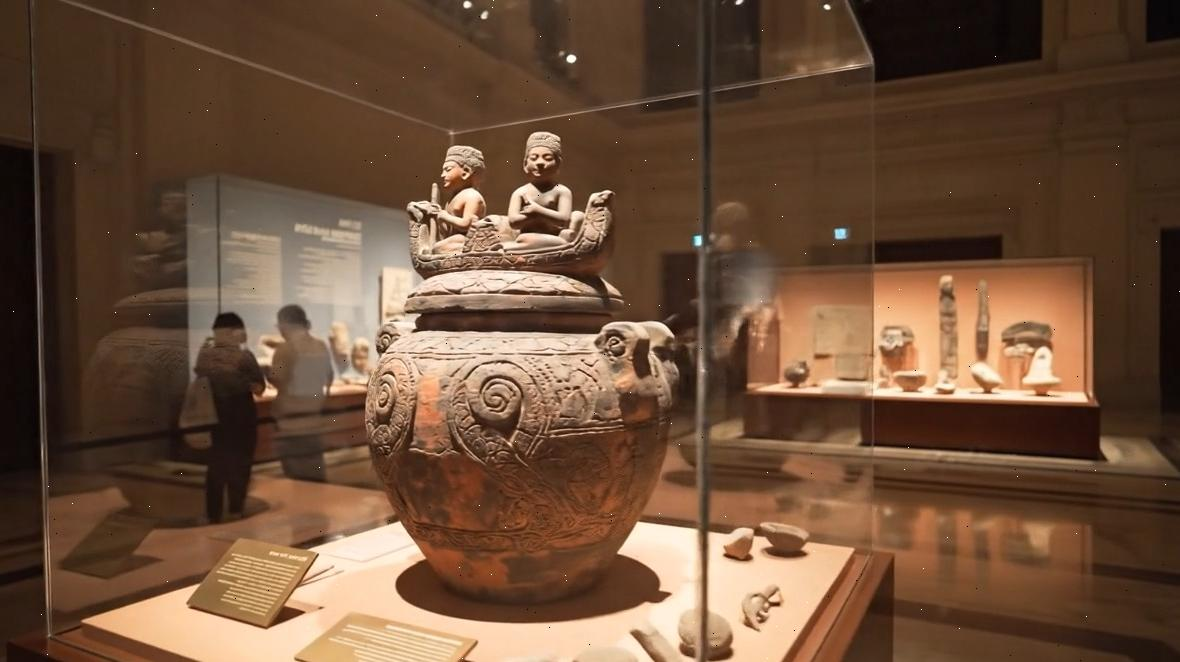manunggul_jar: (361, 122, 682, 609)
